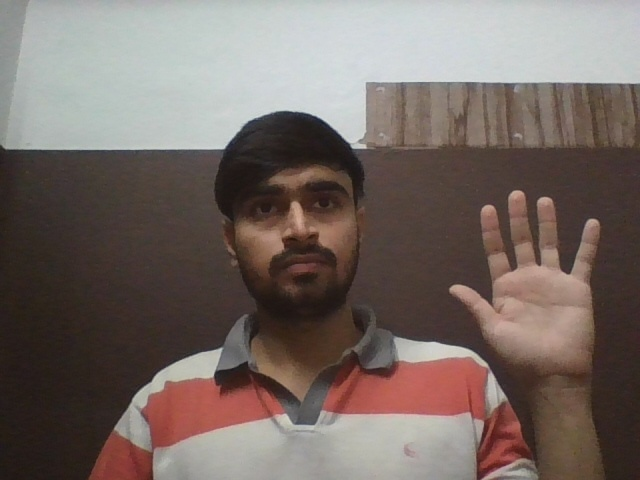Hello: (448, 190, 599, 377)
